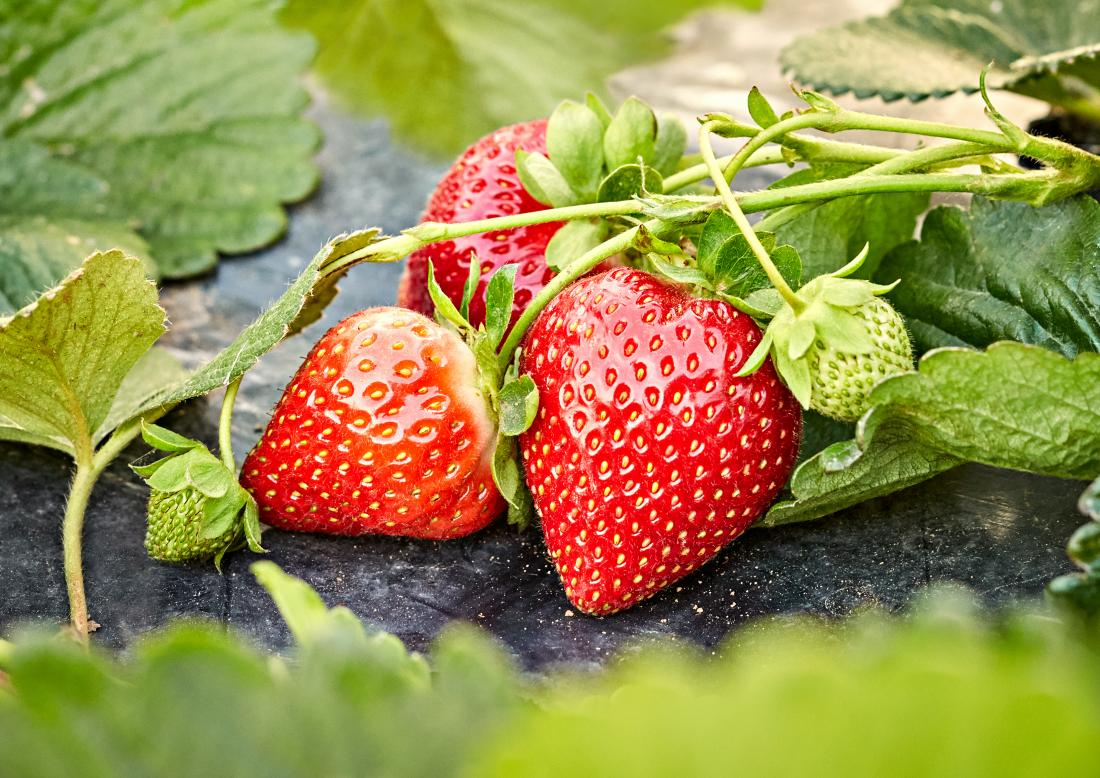ripe_strawberry: (517, 265, 806, 624), (239, 305, 514, 543), (395, 117, 634, 351)
unripe_strawberry: (782, 275, 917, 425), (141, 443, 240, 567)
